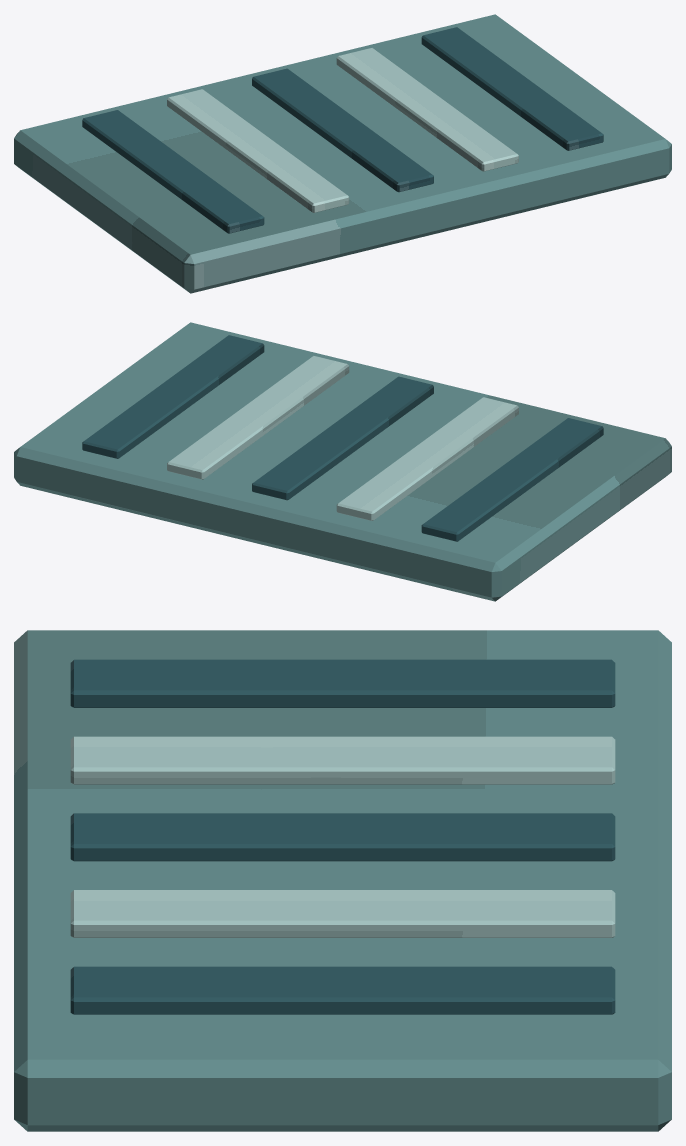
The model's file is house_bath_mat.glb.
3 renders of one model, top to bottom at view 1: azimuth 30°, elevation 25°; view 2: azimuth 150°, elevation 25°; view 3: azimuth 270°, elevation 25°, orthographic. The views are drawn at different scales.
Visible parts, largest first — view 1: BathMat, BathMatStripe_0, BathMatStripe_1, BathMatStripe_3, BathMatStripe_4, BathMatStripe_2; view 2: BathMat, BathMatStripe_0, BathMatStripe_1, BathMatStripe_3, BathMatStripe_4, BathMatStripe_2; view 3: BathMat, BathMatStripe_0, BathMatStripe_1, BathMatStripe_2, BathMatStripe_4, BathMatStripe_3.
Boxes of the visible parts, bbox=[...] form: BathMat: bbox=[14, 14, 671, 293]; BathMatStripe_0: bbox=[82, 110, 264, 233]; BathMatStripe_1: bbox=[167, 89, 349, 212]; BathMatStripe_3: bbox=[336, 48, 518, 171]; BathMatStripe_4: bbox=[421, 27, 603, 150]; BathMatStripe_2: bbox=[252, 68, 433, 192]; BathMat: bbox=[14, 322, 671, 601]; BathMatStripe_0: bbox=[421, 418, 603, 541]; BathMatStripe_1: bbox=[336, 397, 518, 520]; BathMatStripe_3: bbox=[167, 356, 349, 479]; BathMatStripe_4: bbox=[82, 335, 264, 458]; BathMatStripe_2: bbox=[252, 376, 433, 500]; BathMat: bbox=[14, 630, 671, 1131]; BathMatStripe_0: bbox=[70, 659, 615, 707]; BathMatStripe_1: bbox=[70, 736, 615, 784]; BathMatStripe_2: bbox=[70, 813, 615, 861]; BathMatStripe_4: bbox=[70, 966, 615, 1014]; BathMatStripe_3: bbox=[70, 890, 615, 937].
Size of the model in its own units: 0.92 by 0.086 by 0.58.
1 material, 1 textured.
